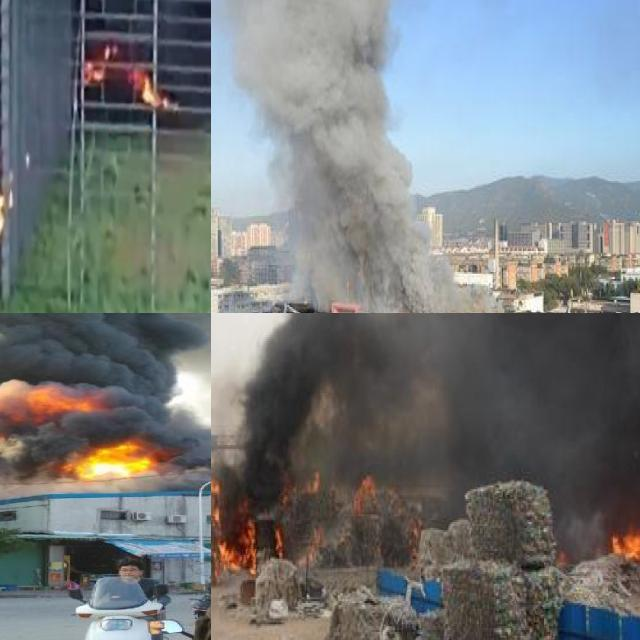fire: (66, 439, 157, 478), (612, 514, 640, 612), (219, 507, 258, 572), (211, 472, 234, 576), (130, 66, 168, 108), (298, 524, 326, 563), (82, 46, 110, 82), (351, 472, 374, 510), (272, 520, 284, 555), (305, 468, 320, 489)
smoke: (224, 313, 640, 537), (211, 0, 483, 313), (0, 313, 211, 506)
